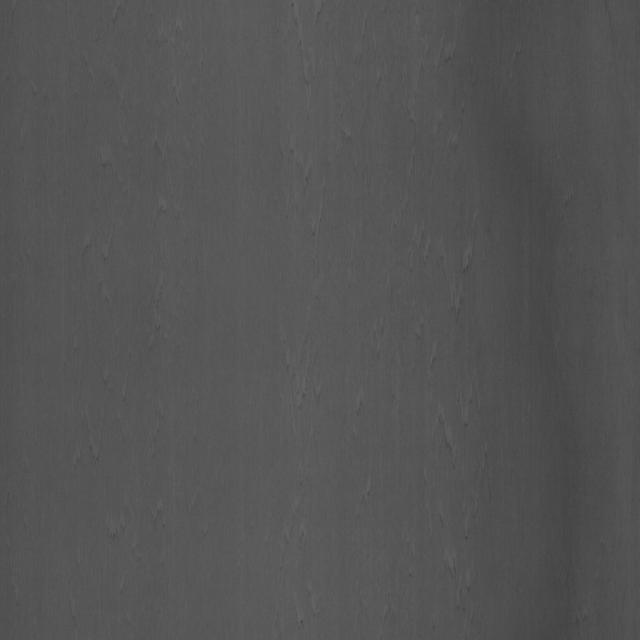inclusion: (397, 205, 507, 365), (407, 396, 502, 556), (268, 40, 360, 194)
